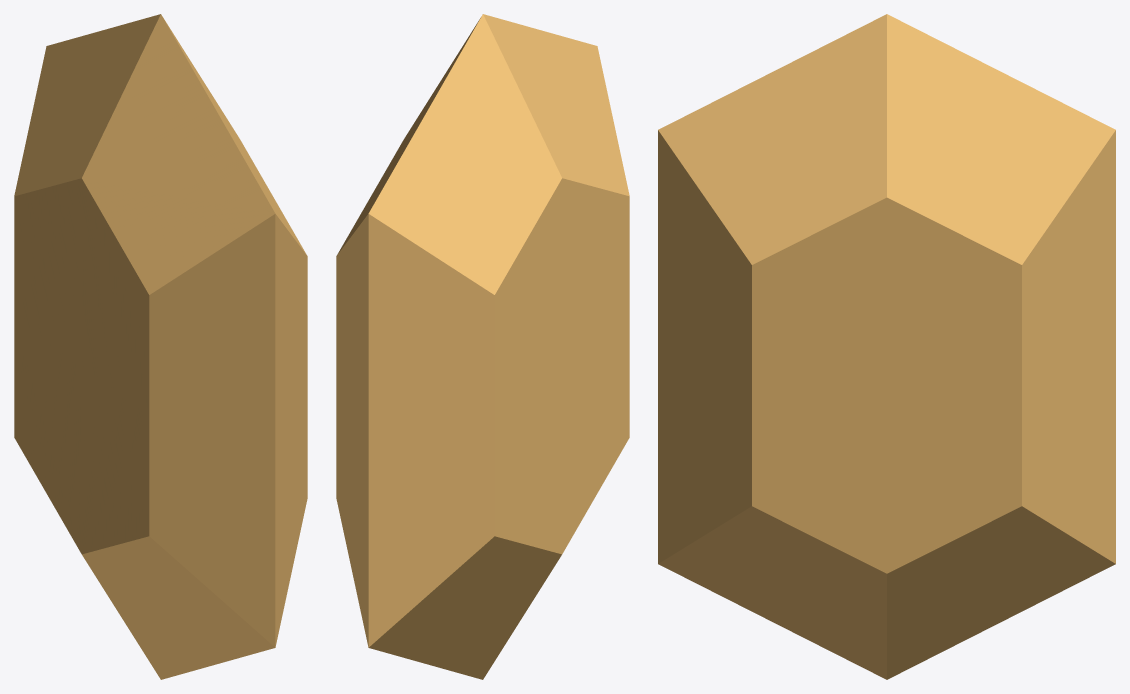
The model's file is Topaz.fbx.
3 renders of one model, left to right at view 1: azimuth 30°, elevation 25°; view 2: azimuth 150°, elevation 25°; view 3: azimuth 270°, elevation 25°, orthographic.
Parts seen in each view (by area): view 1: Topaz; view 2: Topaz; view 3: Topaz.
Boxes of the visible parts, x1,y1,x2,y2 form: Topaz: (14, 14, 307, 679); Topaz: (336, 14, 629, 679); Topaz: (658, 14, 1115, 679).
Bounding box in the file's own units: 28 × 112 × 70.06.
